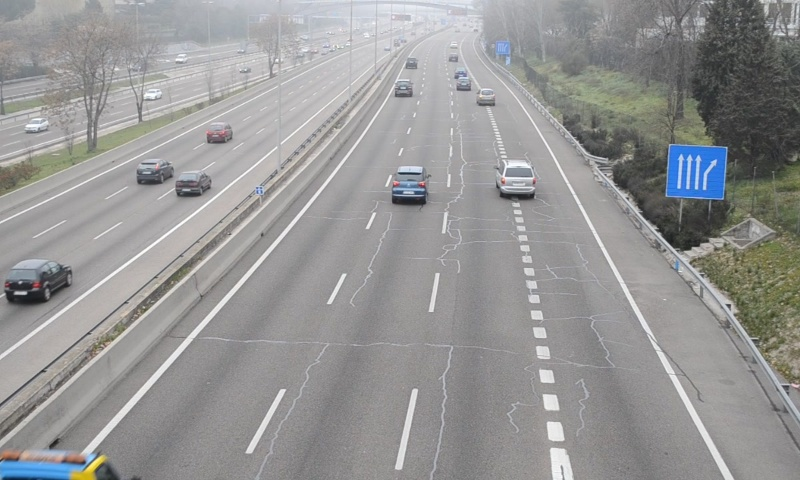car: (497, 160, 536, 195), (390, 166, 427, 201), (393, 78, 413, 98), (476, 87, 495, 106)
